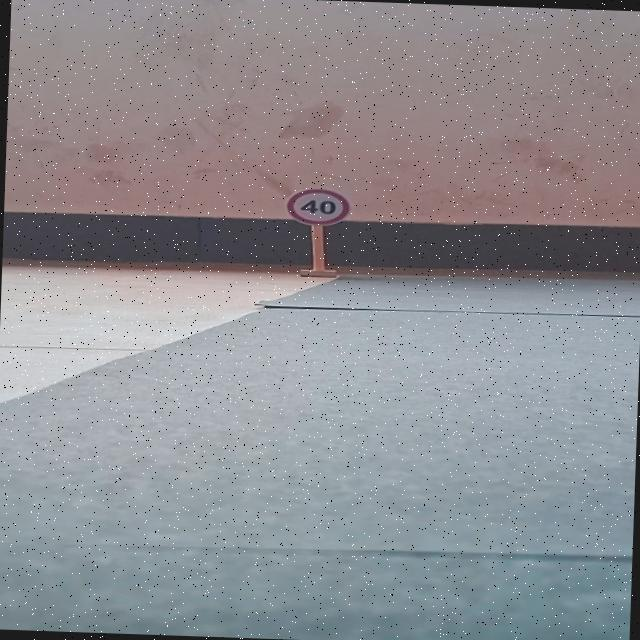Speed40: (284, 180, 356, 232)
